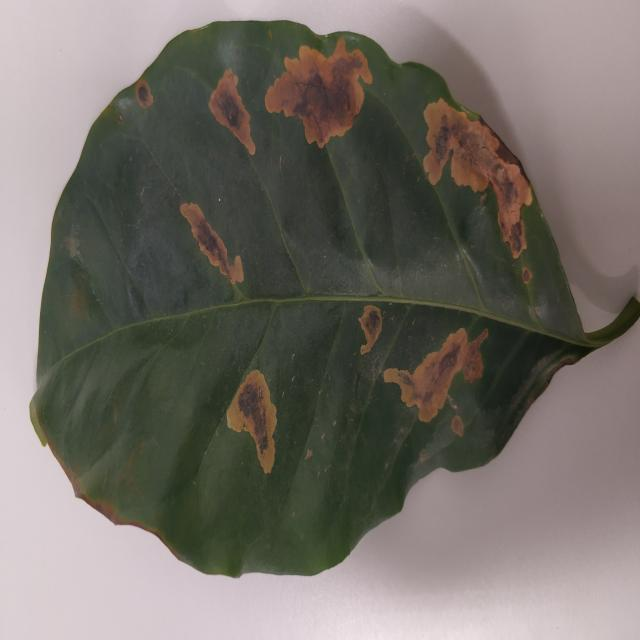Plaga-Minador: (28, 21, 640, 583)
